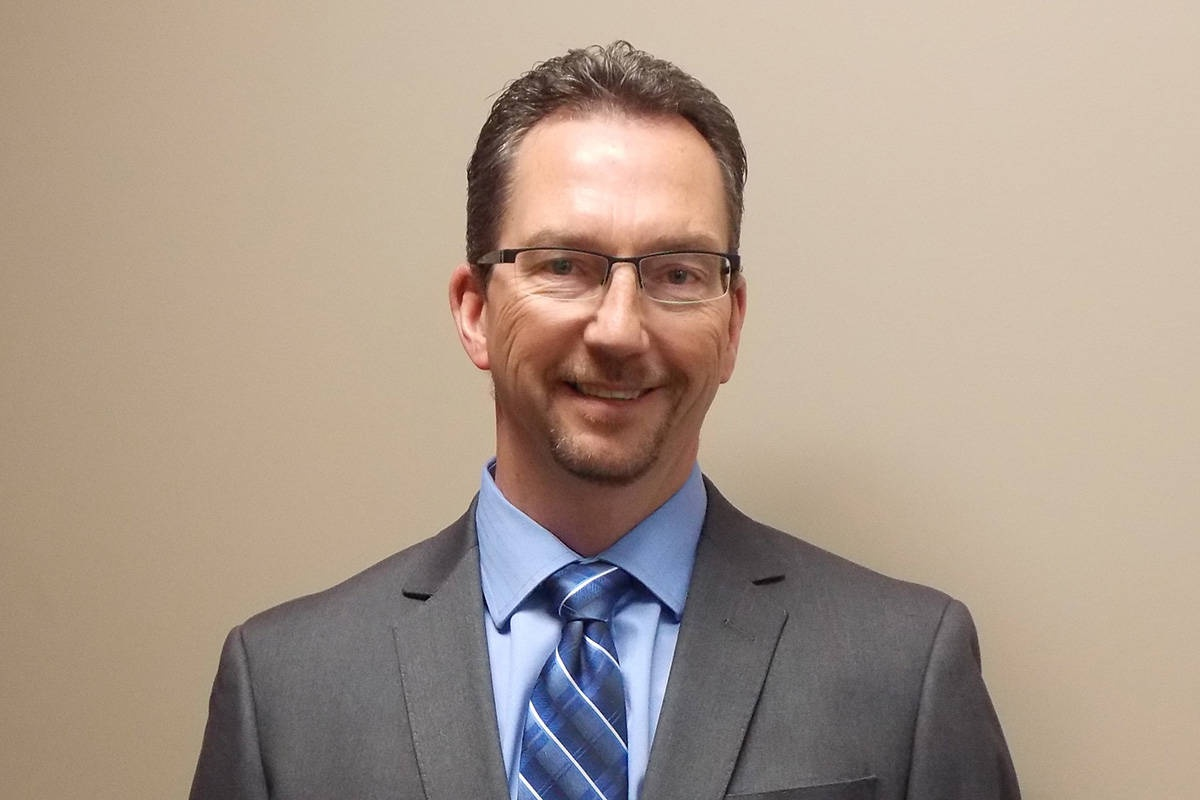bad: (468, 201, 735, 468)
